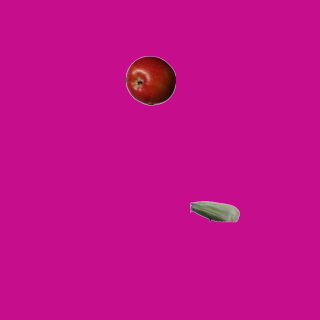Apple Braeburn: (125, 55, 175, 105)
Corn Husk: (189, 186, 239, 236)
